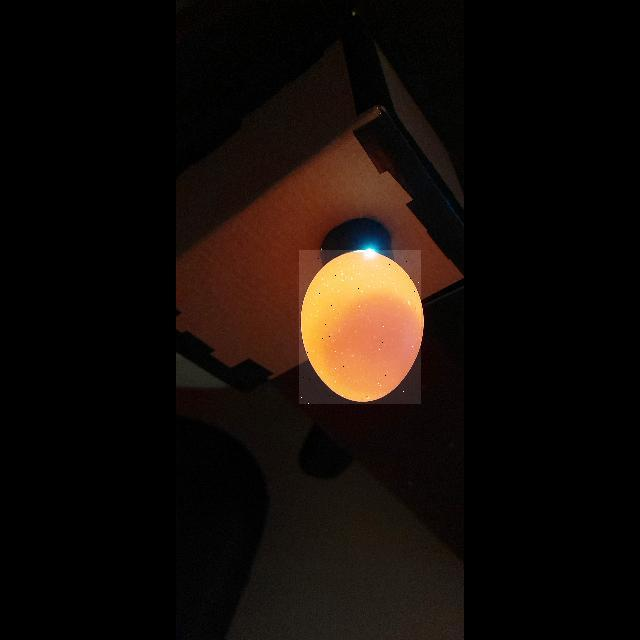Fertile: (299, 250, 421, 404)
